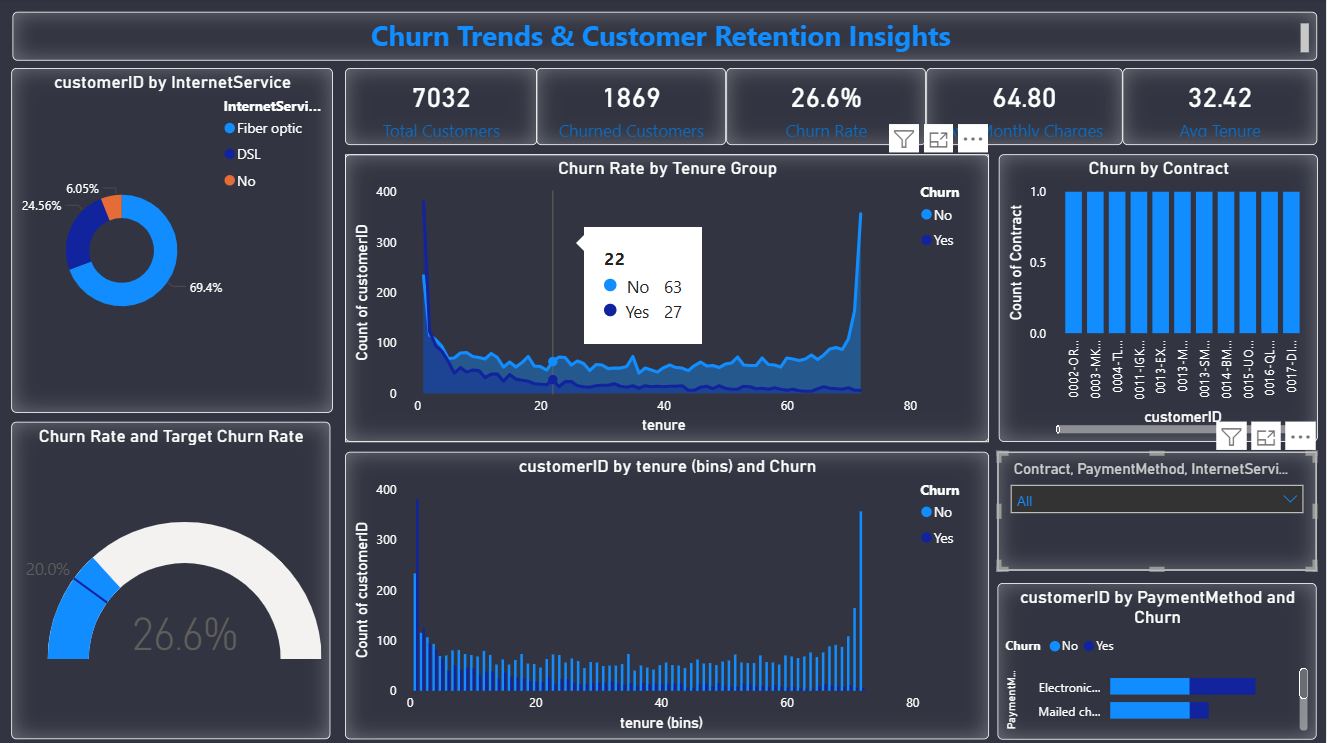

The dashboard page shown, as its layout file describes it:
{"tool":"powerbi","page":{"name":"Page 1","canvas":[1280,720],"ordinal":0},"visuals":[{"type":"card","fields":{"Values":["Telco-Customer-Churn.Avg Tenure"]},"box":[1083.4,67.6,188.2,74.8],"z":0},{"type":"card","fields":{"Values":["Telco-Customer-Churn.Avg Monthly Charges"]},"box":[894,67.6,189.4,74.8],"z":1000},{"type":"card","fields":{"Values":["Telco-Customer-Churn.Churn Rate"]},"box":[700.9,67.6,193,74.8],"z":2000},{"type":"columnChart","title":"Churn by Contract","fields":{"Category":["Telco-Customer-Churn.customerID"],"Y":["CountNonNull(Telco-Customer-Churn.Contract)"]},"box":[963.9,150.8,307.6,277.5],"z":3000},{"type":"donutChart","title":"customerID by InternetService","fields":{"Category":["Telco-Customer-Churn.InternetService"],"Y":["CountNonNull(Telco-Customer-Churn.customerID)"]},"box":[11,67.6,310.1,333],"z":4000},{"type":"barChart","title":"customerID by PaymentMethod and Churn","fields":{"Category":["Telco-Customer-Churn.PaymentMethod"],"Series":["Telco-Customer-Churn.Churn"],"Y":["CountNonNull(Telco-Customer-Churn.customerID)"]},"box":[962.7,564.6,307.6,150.8],"z":5000},{"type":"clusteredColumnChart","title":"customerID by tenure (bins) and Churn","fields":{"Category":["Telco-Customer-Churn.tenure (bins)"],"Series":["Telco-Customer-Churn.Churn"],"Y":["CountNonNull(Telco-Customer-Churn.customerID)"]},"box":[333,437.9,621.3,277.5],"z":6000},{"type":"slicer","fields":{"Values":["Telco-Customer-Churn.Contract","Telco-Customer-Churn.PaymentMethod","Telco-Customer-Churn.InternetService","Telco-Customer-Churn.gender"]},"box":[962.7,437.9,307.6,114.6],"z":7000},{"type":"textbox","box":[12.1,13.3,1259.5,47.1],"z":8000},{"type":"lineChart","title":"Churn Rate by Tenure Group","fields":{"Category":["Telco-Customer-Churn.tenure"],"Y":["CountNonNull(Telco-Customer-Churn.customerID)"],"Series":["Telco-Customer-Churn.Churn"]},"box":[333,150.8,621.3,277.5],"z":9000},{"type":"card","fields":{"Values":["Telco-Customer-Churn.Churned Customers"]},"box":[517.6,67.6,183.4,74.8],"z":10000},{"type":"card","fields":{"Values":["Telco-Customer-Churn.Total Customers"]},"box":[333,67.6,185.8,74.8],"z":11000},{"type":"gauge","fields":{"Y":["Telco-Customer-Churn.Churn Rate"],"TargetValue":["Telco-Customer-Churn.Target Churn Rate"]},"box":[10.9,409,307.6,306.4],"z":12000}]}

Visuals, with their boxes in screenshot pixels (x1, y1, x2, y2), scaled from the page's 1280x720 canvas onto the 1327x743 screenshot:
card - Telco-Customer-Churn.Avg Tenure: 1123, 70, 1318, 147
card - Telco-Customer-Churn.Avg Monthly Charges: 927, 70, 1123, 147
card - Telco-Customer-Churn.Churn Rate: 727, 70, 927, 147
"Churn by Contract" columnChart: 999, 156, 1318, 442
"customerID by InternetService" donutChart: 11, 70, 333, 413
"customerID by PaymentMethod and Churn" barChart: 998, 583, 1317, 738
"customerID by tenure (bins) and Churn" clusteredColumnChart: 345, 452, 989, 738
slicer - Telco-Customer-Churn.Contract x Telco-Customer-Churn.PaymentMethod: 998, 452, 1317, 570
textbox: 13, 14, 1318, 62
"Churn Rate by Tenure Group" lineChart: 345, 156, 989, 442
card - Telco-Customer-Churn.Churned Customers: 537, 70, 727, 147
card - Telco-Customer-Churn.Total Customers: 345, 70, 538, 147
gauge - Telco-Customer-Churn.Churn Rate x Telco-Customer-Churn.Target Churn Rate: 11, 422, 330, 738
